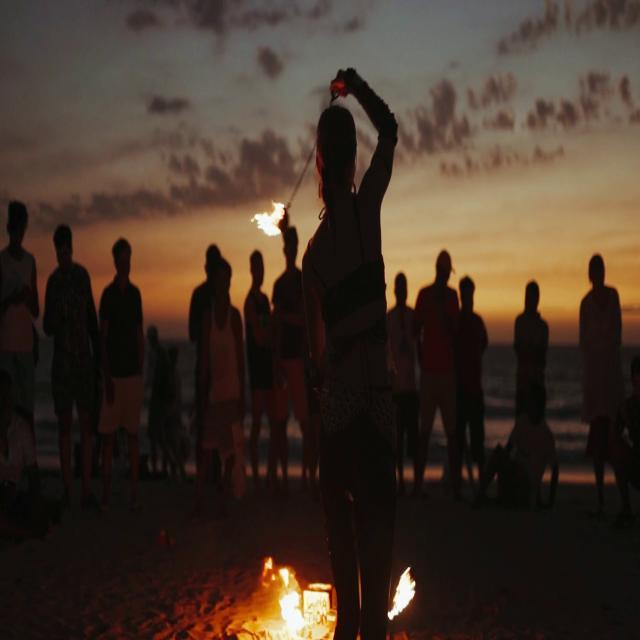Fire: (258, 562, 325, 638), (391, 560, 419, 616), (258, 194, 288, 243)
